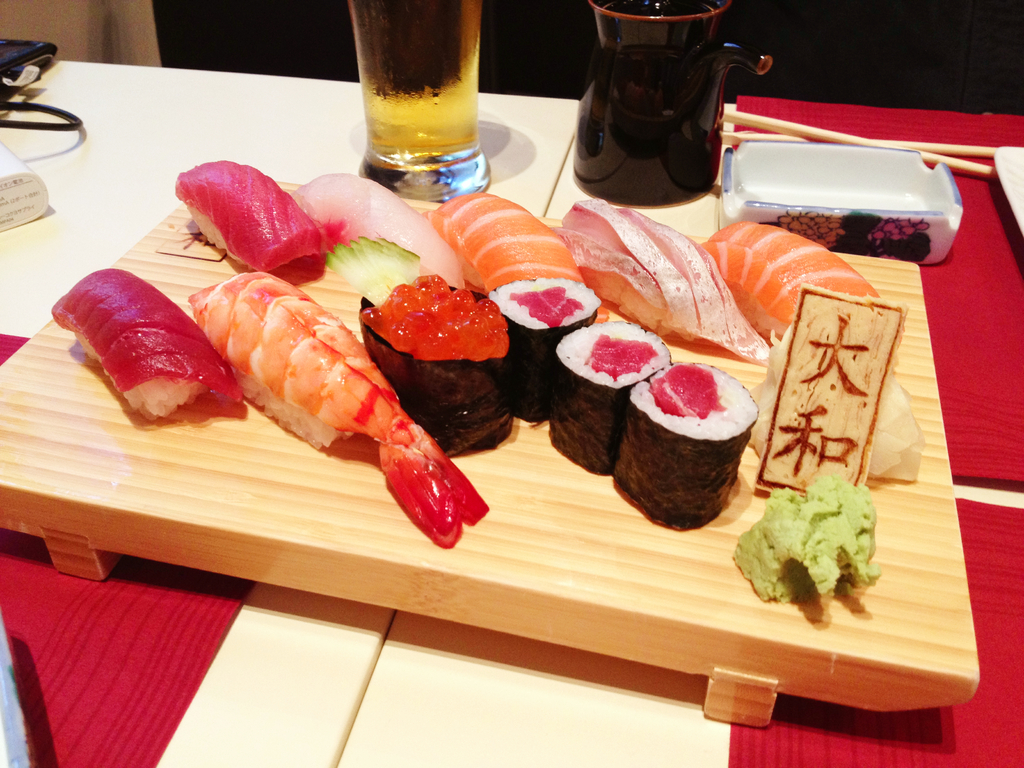sushi: (55, 156, 932, 543), (624, 379, 751, 528), (477, 280, 604, 420)
